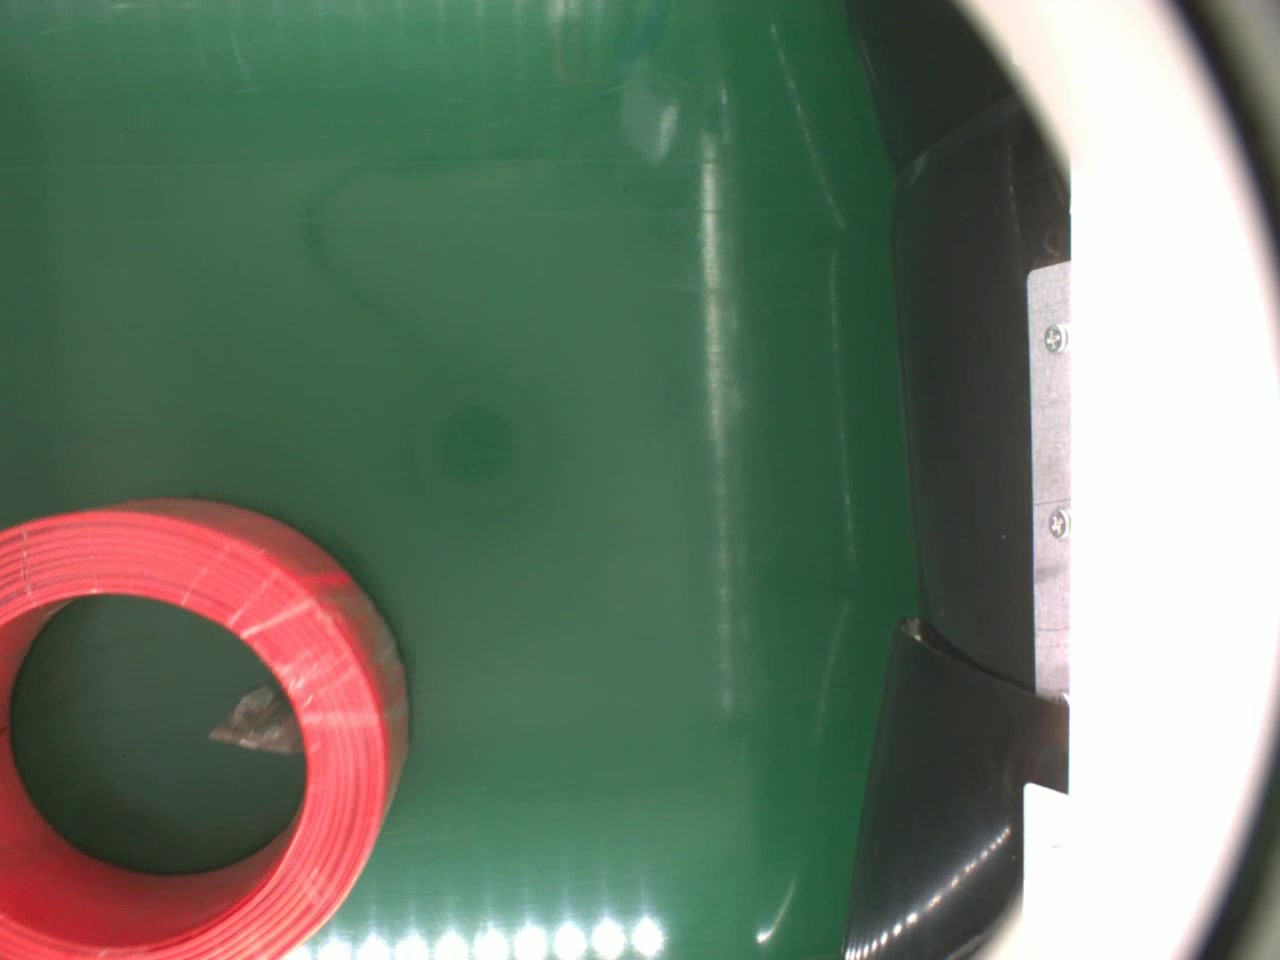red: (0, 495, 412, 960)
